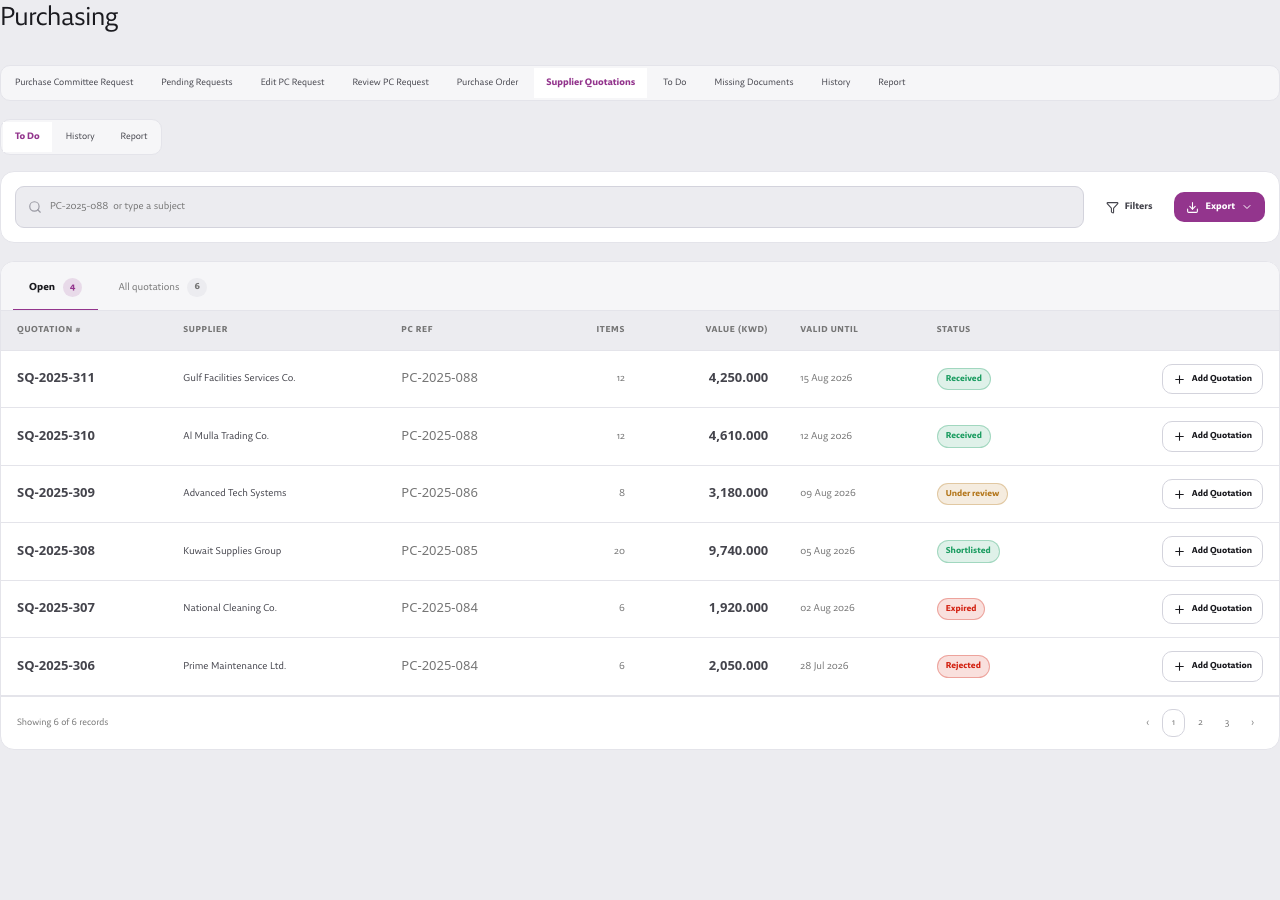
M6.5 Supplier Quotations › filters quotation rows and opens a freshly seeded builder
The width and height of the screenshot is (1280, 900).
Type "Advanced Tech" into the field with placeholder "PC-2025-088 or type a subject".
click(560, 207); type("Advanced Tech")  # box [50,187,1071,227]
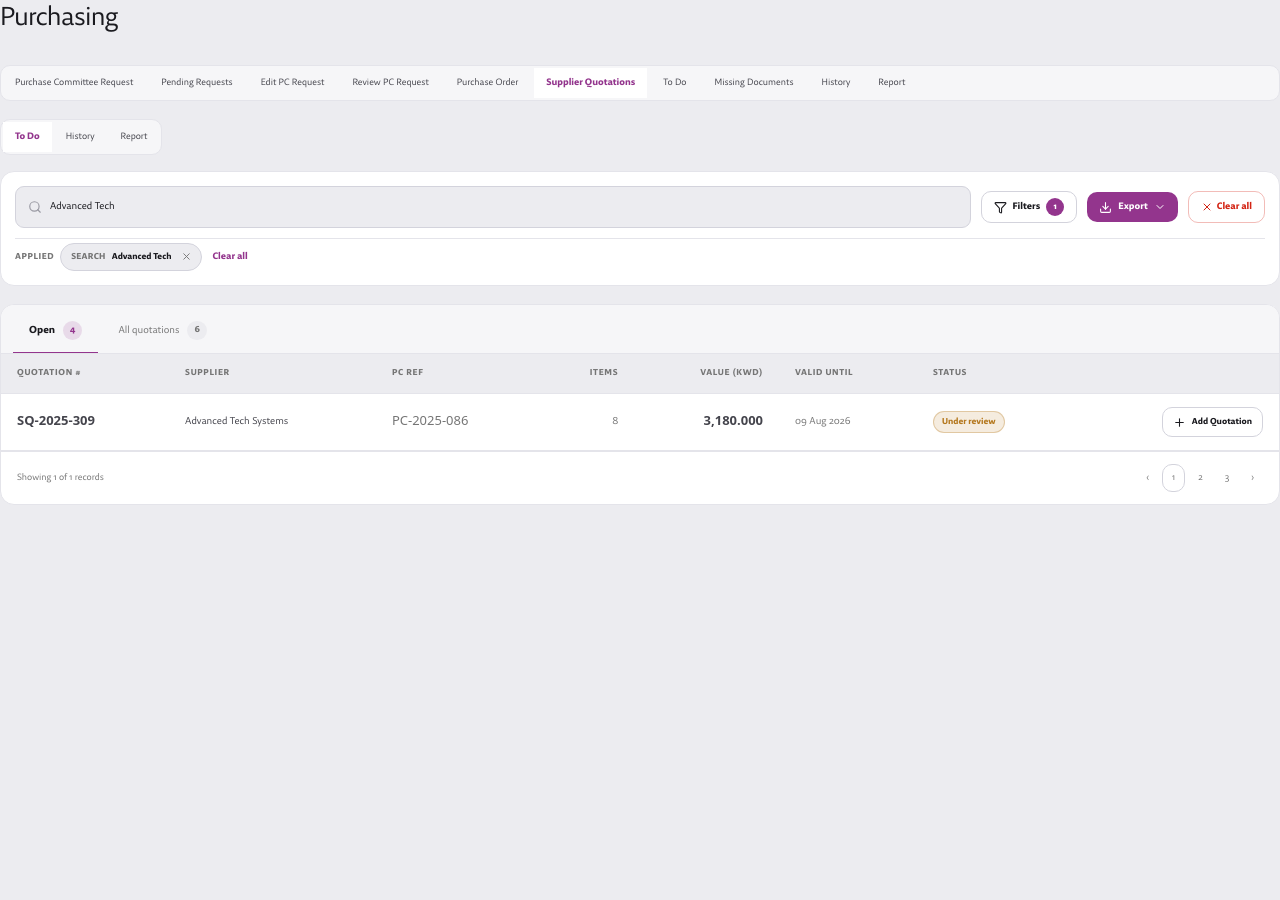
Expected: the text "SQ-2025-309" is shown, [17,411,95,429]
Expected: the text "SQ-2025-311" is gone
Click the button "Add Quotation".
click(1212, 422)  # box [1162,407,1263,437]
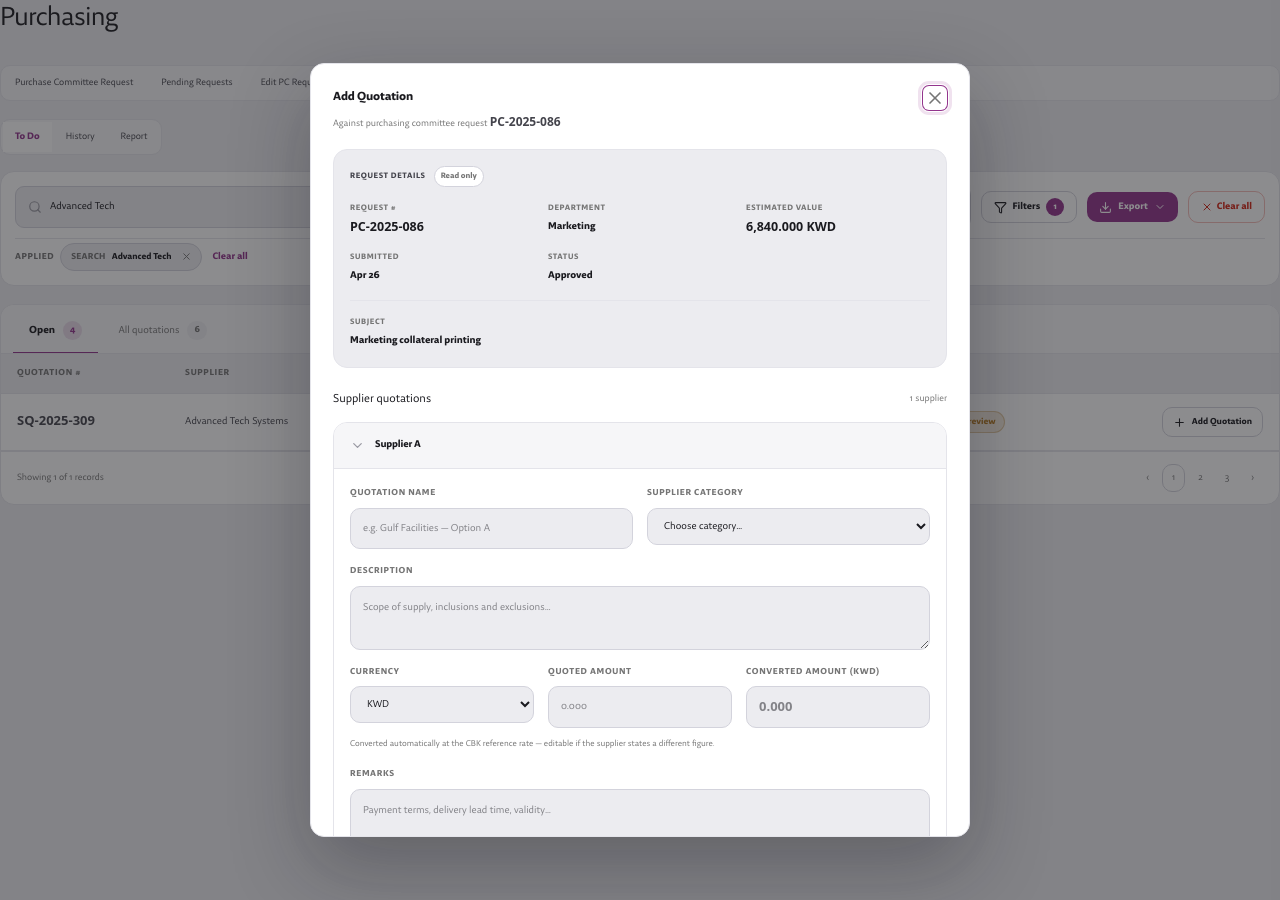
Expected: the text "PC-2025-086" is shown 2 times, [490,112,561,130]; [350,218,424,234]
Expected: the text "Marketing" is shown, [548,220,595,232]
Expected: the text "6,840.000 KWD" is shown, [746,218,836,234]
